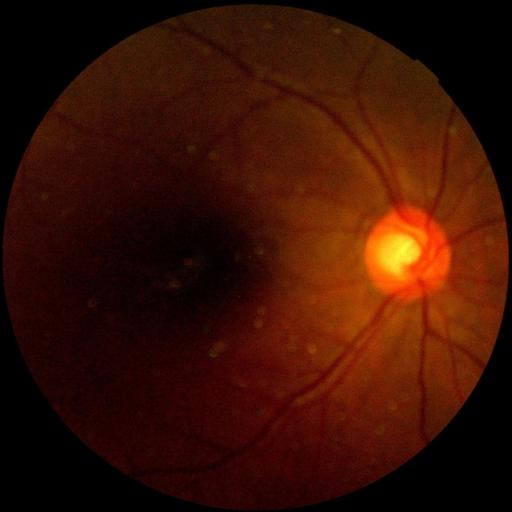Optic Cup: (378, 233, 423, 282)
Optic Disc: (364, 206, 452, 303)
